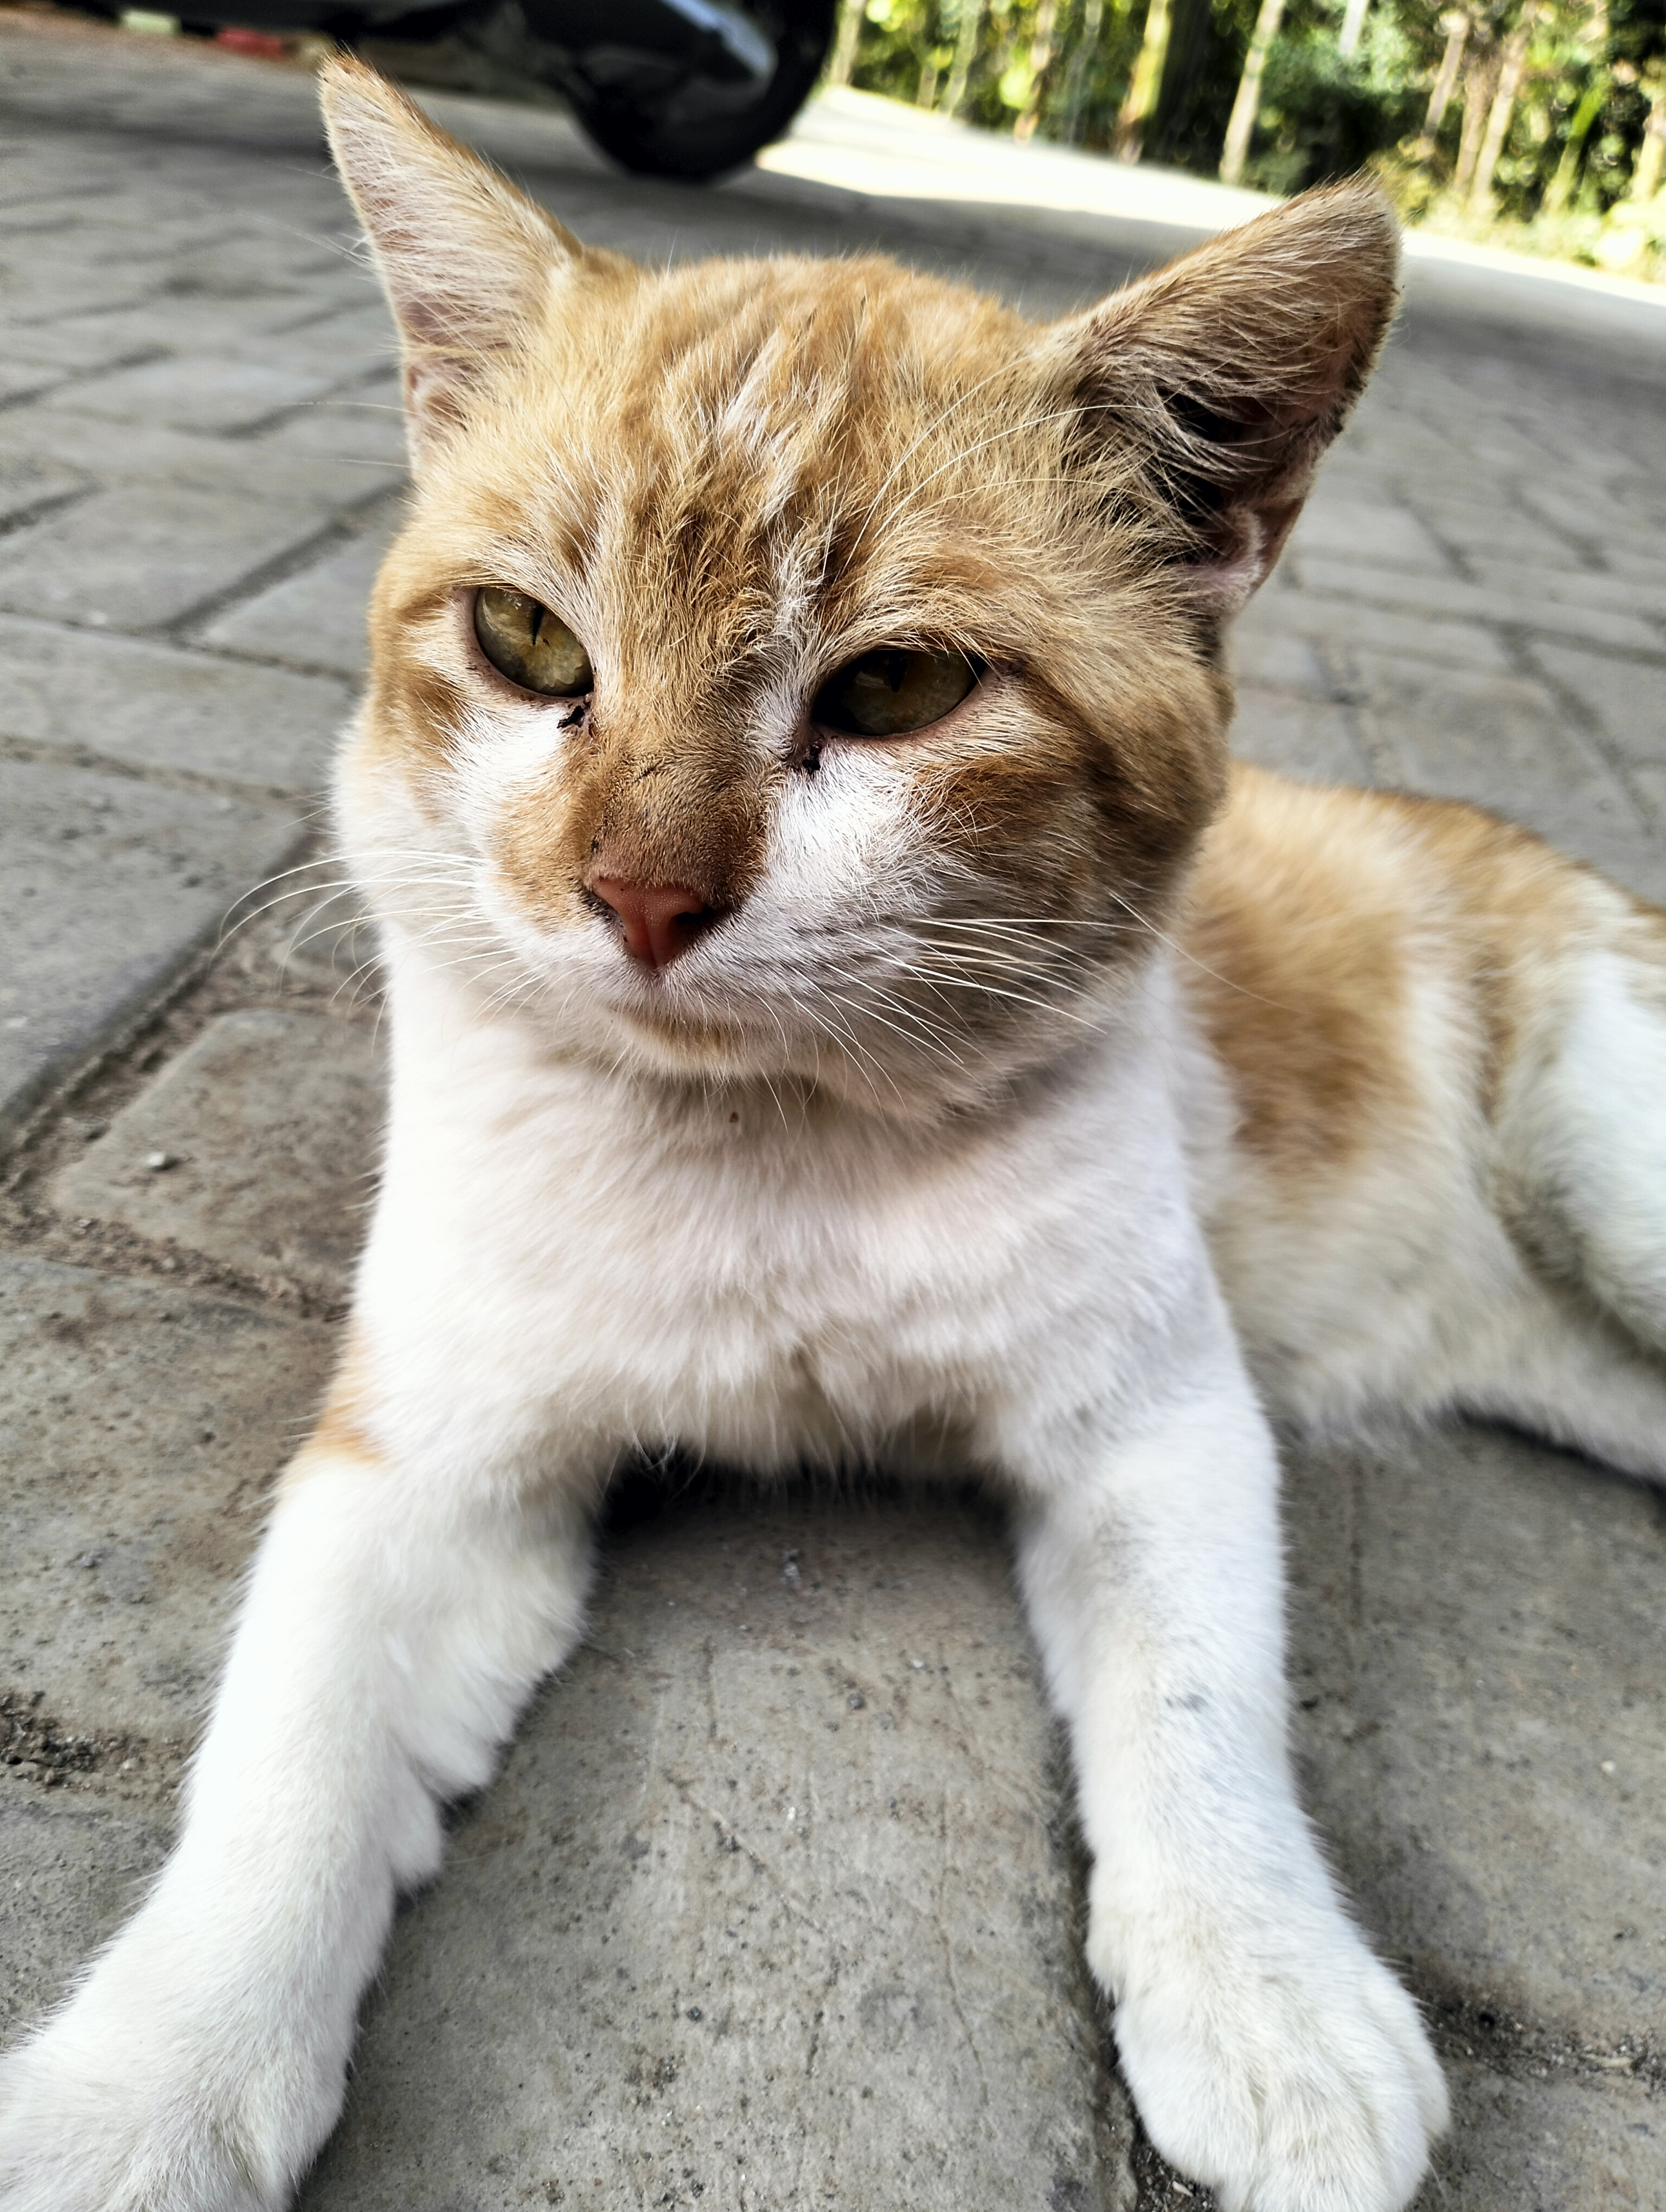oyen: (248, 27, 1445, 1250)
